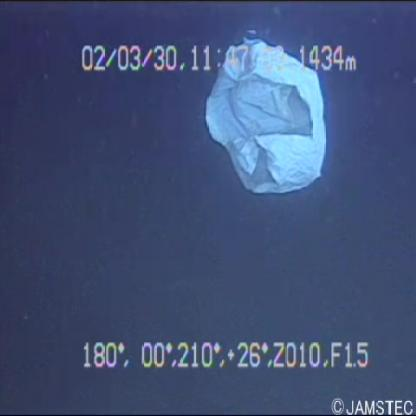Rác: (191, 14, 332, 210)
